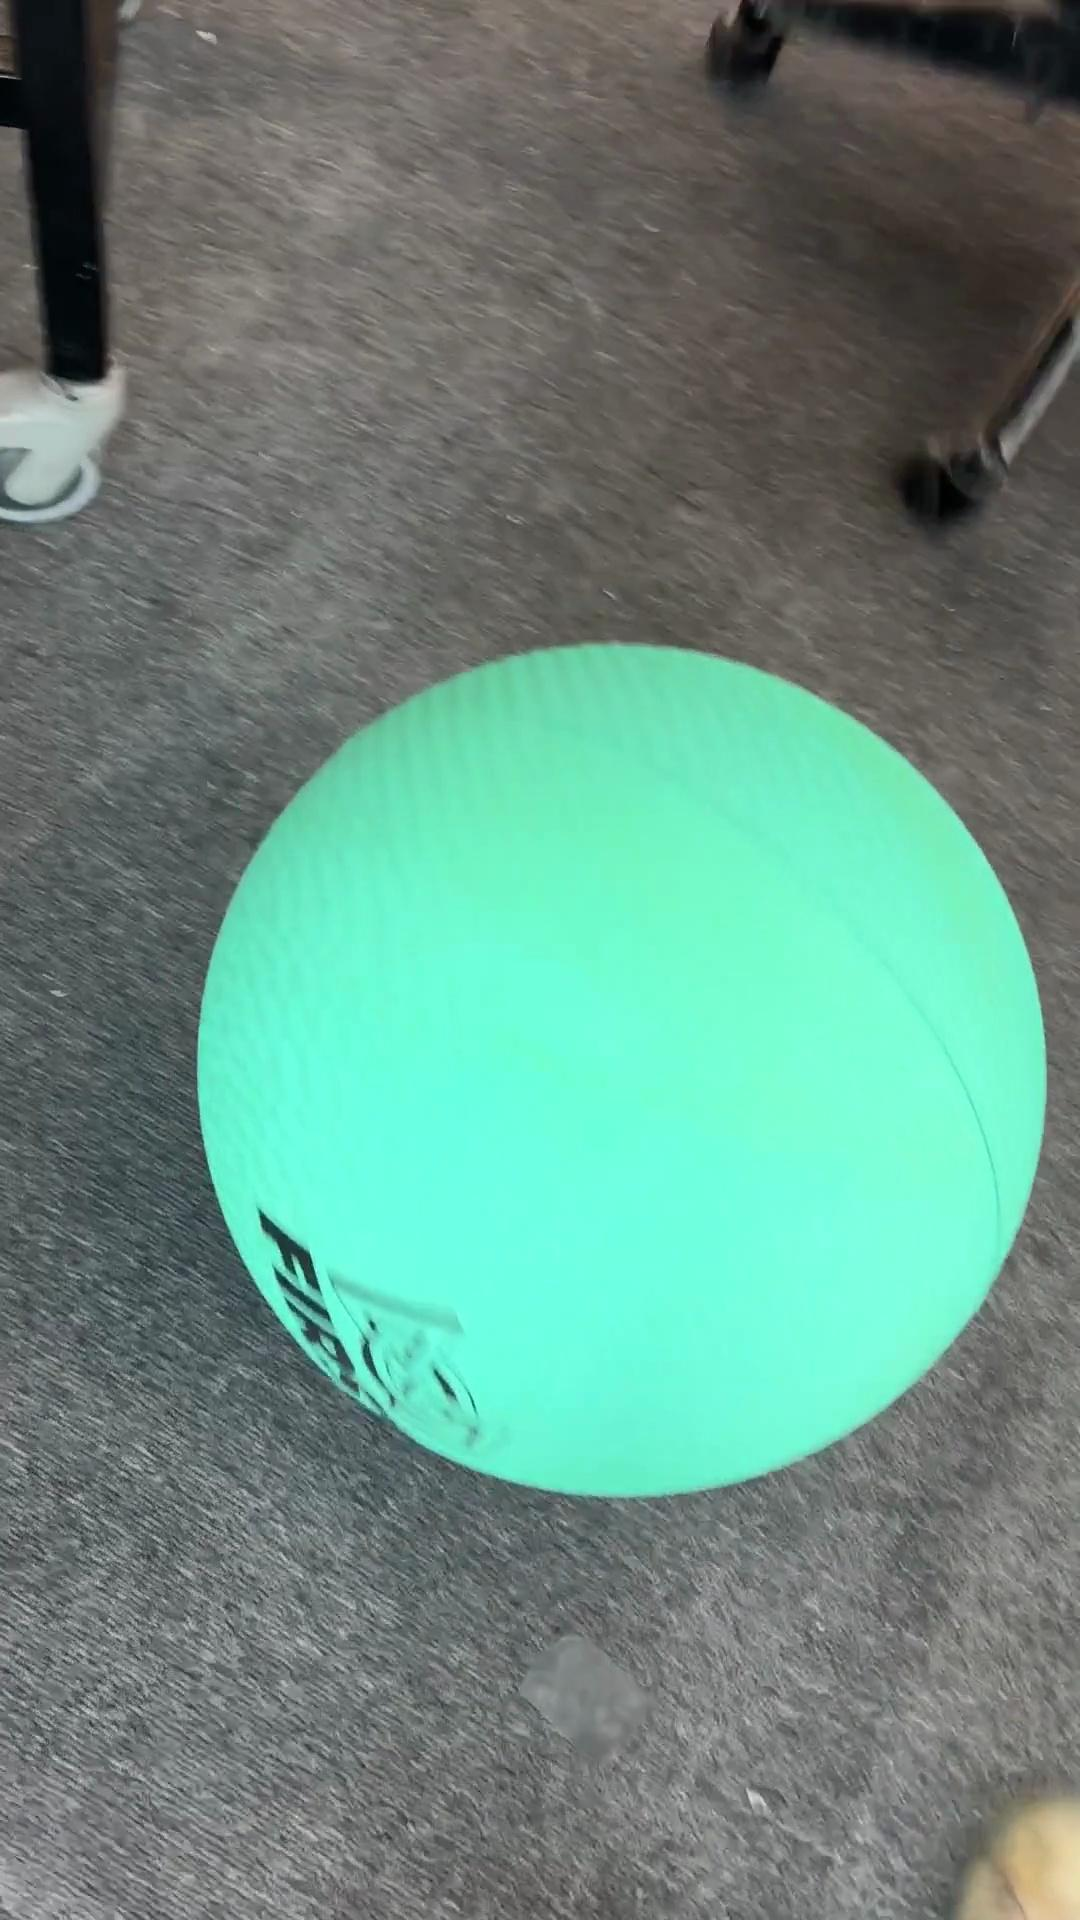ALGAE: (192, 636, 1049, 1501)
